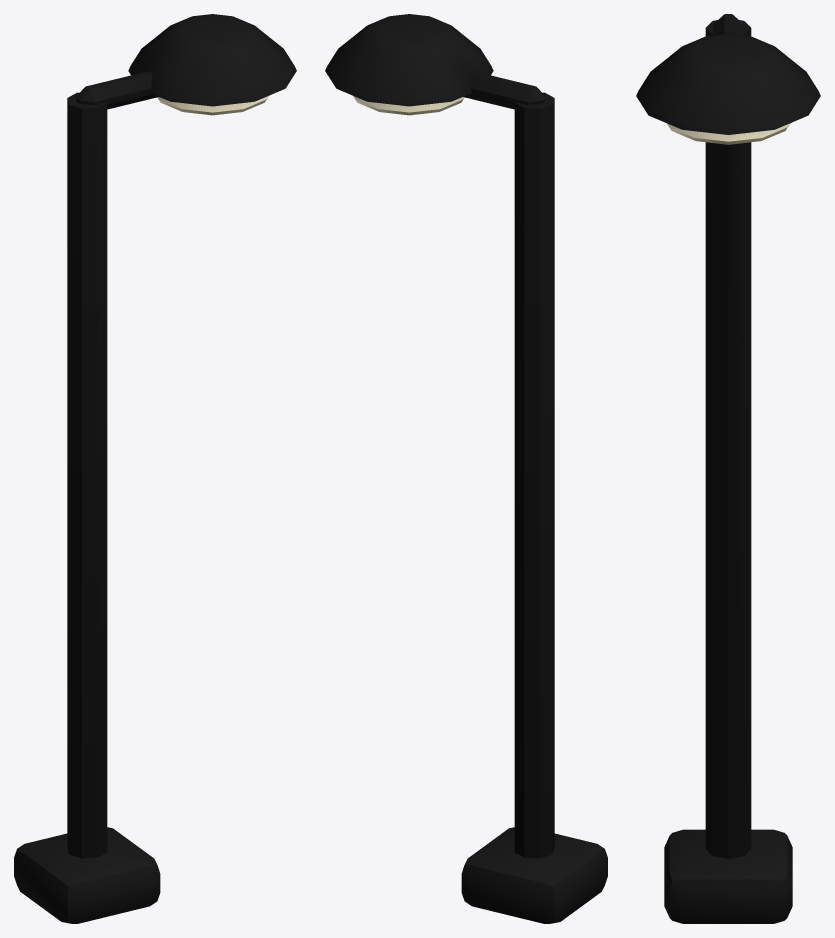
File: street_lamp.glb
The picture shows the model from 3 angles, left to right: view 1: azimuth 30°, elevation 25°; view 2: azimuth 150°, elevation 25°; view 3: azimuth 270°, elevation 25°; orthographic projection. The views are drawn at different scales.
Parts seen in each view (by area): view 1: street_lamp, lamp; view 2: street_lamp, lamp; view 3: street_lamp, lamp.
Part boxes in pixels (box(x1,y1,x2,y2)): street_lamp: box(14, 14, 296, 923); lamp: box(157, 96, 268, 115); street_lamp: box(325, 14, 607, 923); lamp: box(353, 96, 464, 115); street_lamp: box(636, 14, 820, 923); lamp: box(666, 123, 790, 144).
Size of the model in its own units: 0.8346 by 2.69 by 0.4892.
